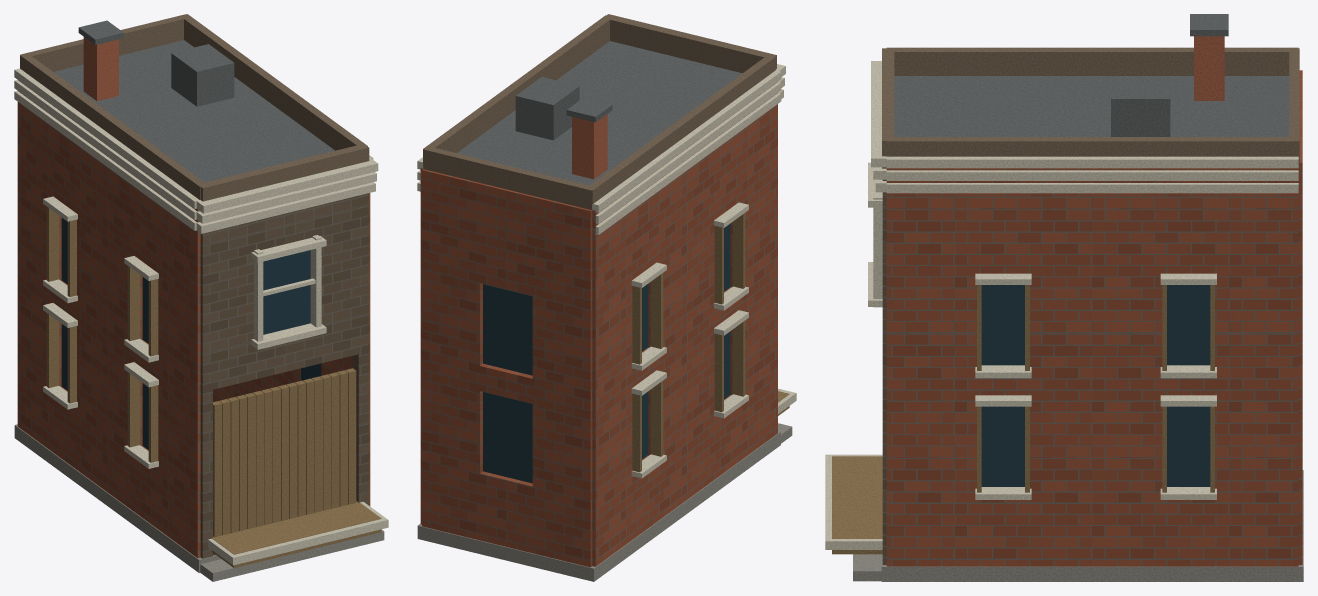
File: WHSE18_lod2.glb
The picture shows the model from 3 angles, left to right: view 1: azimuth 30°, elevation 25°; view 2: azimuth 150°, elevation 25°; view 3: azimuth 270°, elevation 25°; orthographic projection. The views are drawn at different scales.
Parts seen in each view (by area): view 1: WHSE18_LOD2; view 2: WHSE18_LOD2; view 3: WHSE18_LOD2.
Boxes of the visible parts, box(x1,y1,x2,y2) form: WHSE18_LOD2: box(14, 14, 388, 581); WHSE18_LOD2: box(417, 14, 796, 581); WHSE18_LOD2: box(825, 14, 1303, 581).
Bounding box in the file's own units: 3.71 × 7.85 × 6.97.
10 materials, 8 textured.
